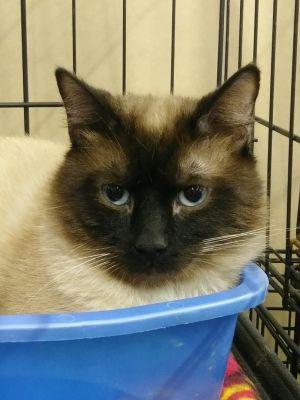siamese: (42, 50, 269, 288)
